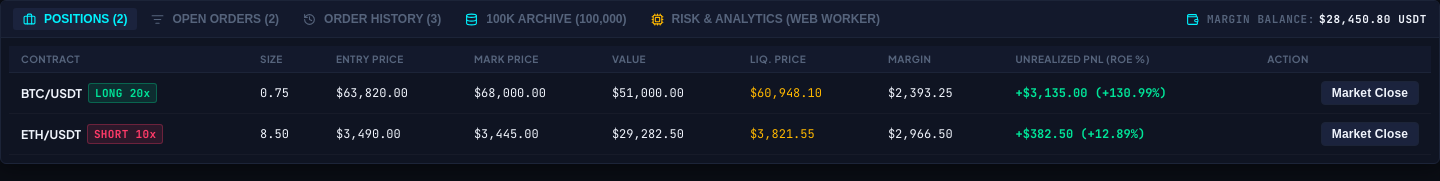
Test case: Phase 11 — Positions & P&L Calculation Engine › PositionsView Live Subscription & Actions › closes a position when Market Close button is clicked
Expected: the row with test id "pos-row-BTC/USDT" is shown, left=9, top=73, right=1431, bottom=114
Click the button with class "btn-close-pos".
click(1370, 93)  # box left=1321, top=81, right=1419, bottom=105
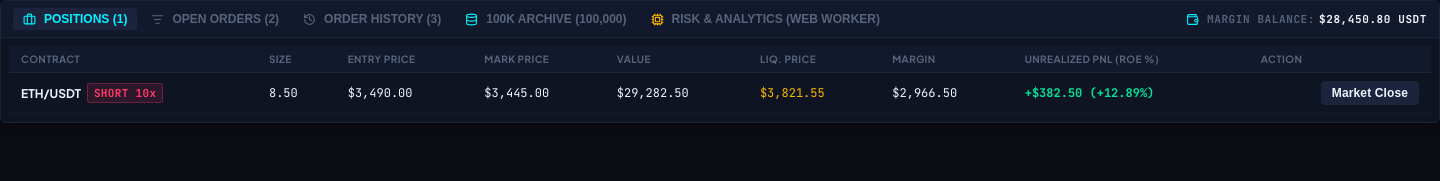
Expected: the row with test id "pos-row-BTC/USDT" is gone
